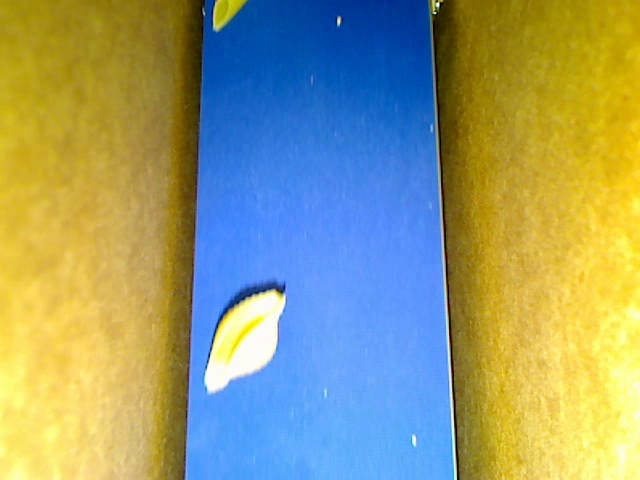penne: (213, 1, 248, 32)
shell: (203, 289, 287, 394)
